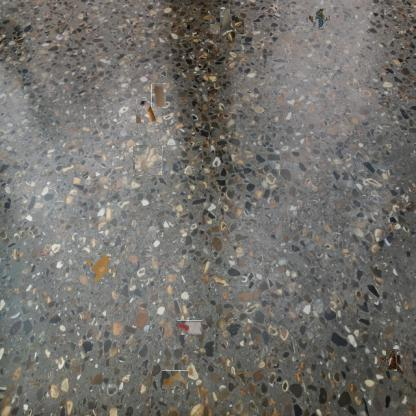dirty: (134, 146, 162, 174), (214, 13, 240, 39), (136, 97, 158, 123), (176, 320, 202, 335), (151, 83, 166, 107), (310, 10, 328, 28), (383, 351, 400, 369)
liquid: (89, 255, 114, 279), (162, 370, 188, 389)
